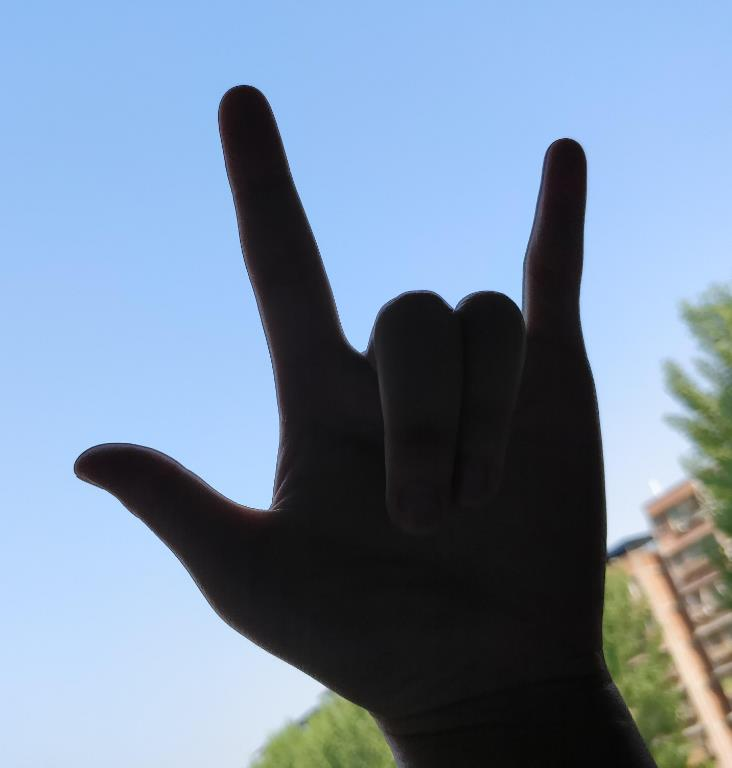back: (66, 72, 618, 671)
